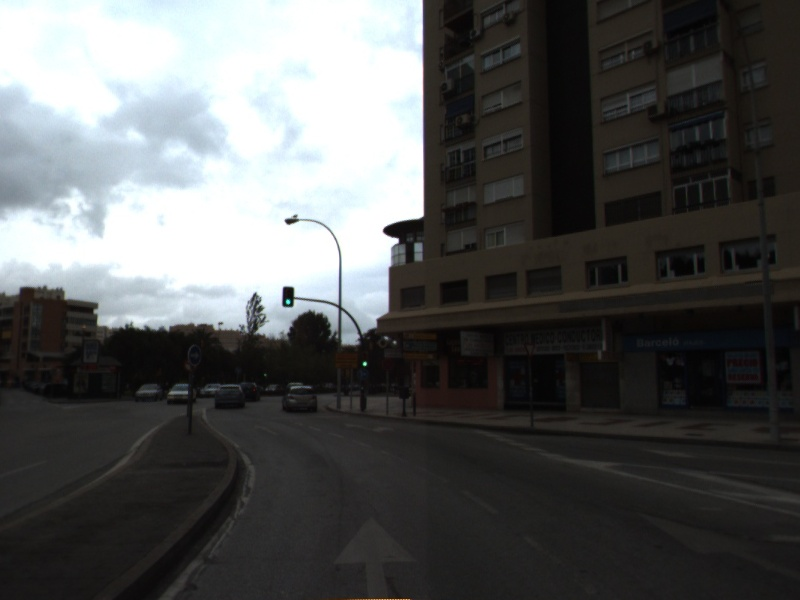STRAIGHT: (633, 506, 800, 586), (329, 511, 422, 600)
STRAIGHT_RIGHT: (343, 421, 396, 435)
